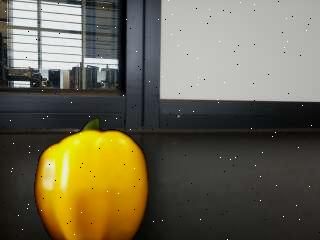Capsicum: (33, 116, 150, 240)
